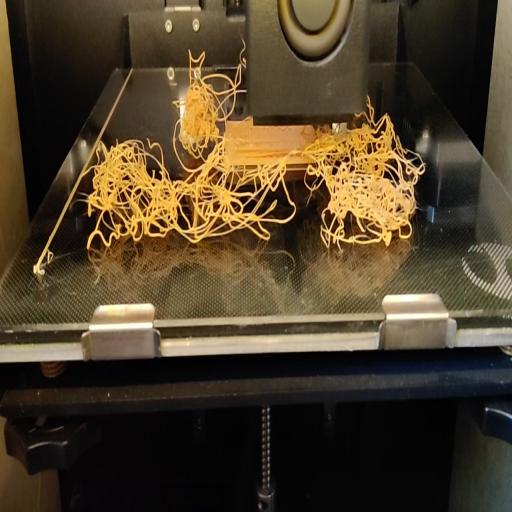spaghetti: (84, 125, 424, 268), (173, 36, 247, 123), (363, 92, 392, 128)
